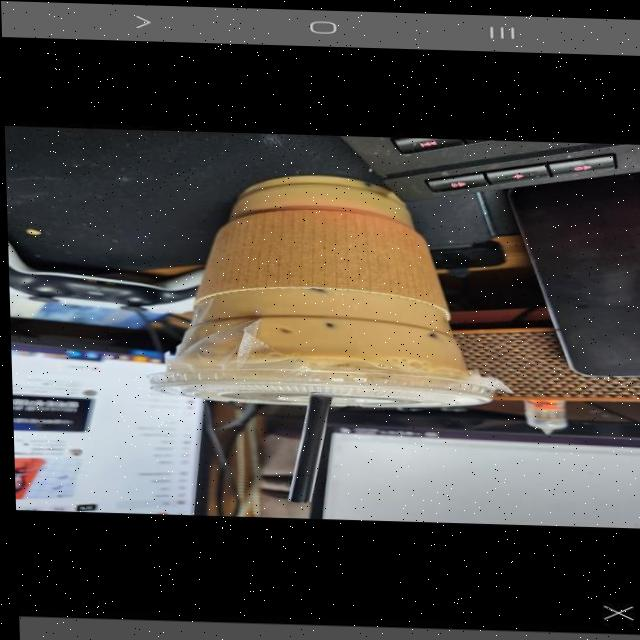cup: (104, 159, 501, 411)
